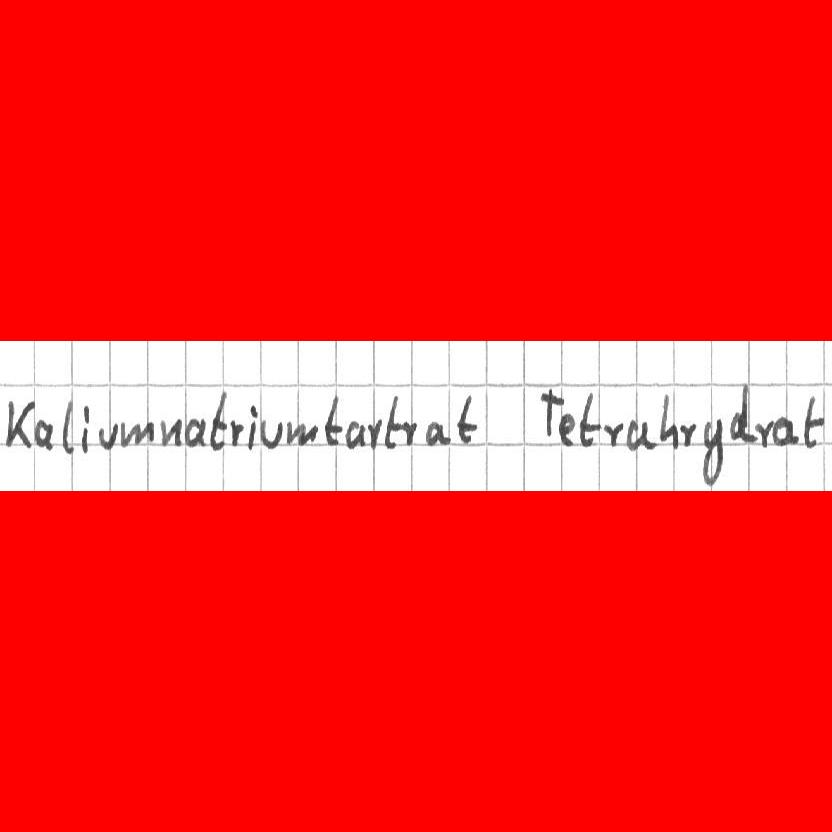Char: (700, 420, 723, 486), (453, 390, 478, 447), (5, 398, 32, 450), (729, 384, 751, 444), (382, 393, 405, 450), (539, 388, 565, 437), (801, 393, 822, 450), (208, 389, 227, 450), (578, 390, 598, 447), (658, 392, 678, 449), (625, 419, 657, 452), (323, 395, 342, 447), (120, 420, 155, 448), (286, 419, 319, 446), (59, 399, 75, 453), (772, 416, 800, 446), (33, 416, 54, 452), (185, 416, 207, 450), (158, 417, 182, 448), (425, 419, 449, 449), (260, 419, 283, 449), (245, 403, 259, 449), (600, 420, 621, 450), (345, 418, 365, 449), (98, 422, 120, 450), (557, 413, 576, 445), (80, 404, 92, 452), (679, 419, 696, 446), (401, 420, 417, 447), (365, 419, 380, 447), (756, 420, 772, 446), (230, 419, 242, 447)
